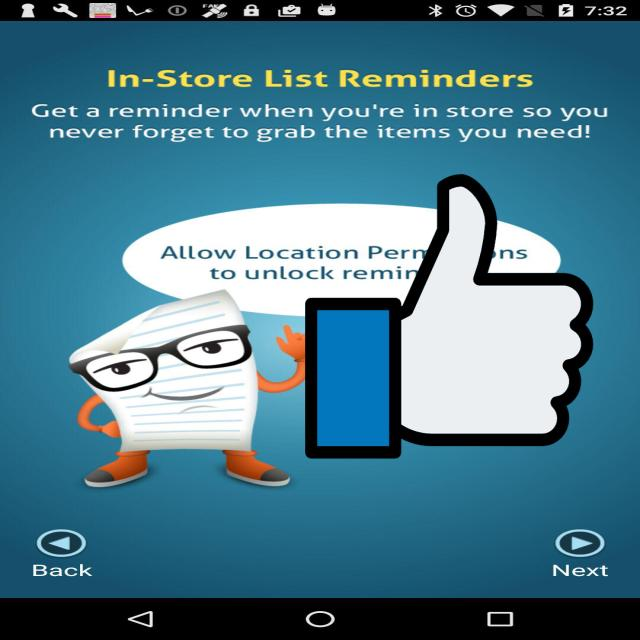privacy zuckering: (305, 168, 593, 465)
